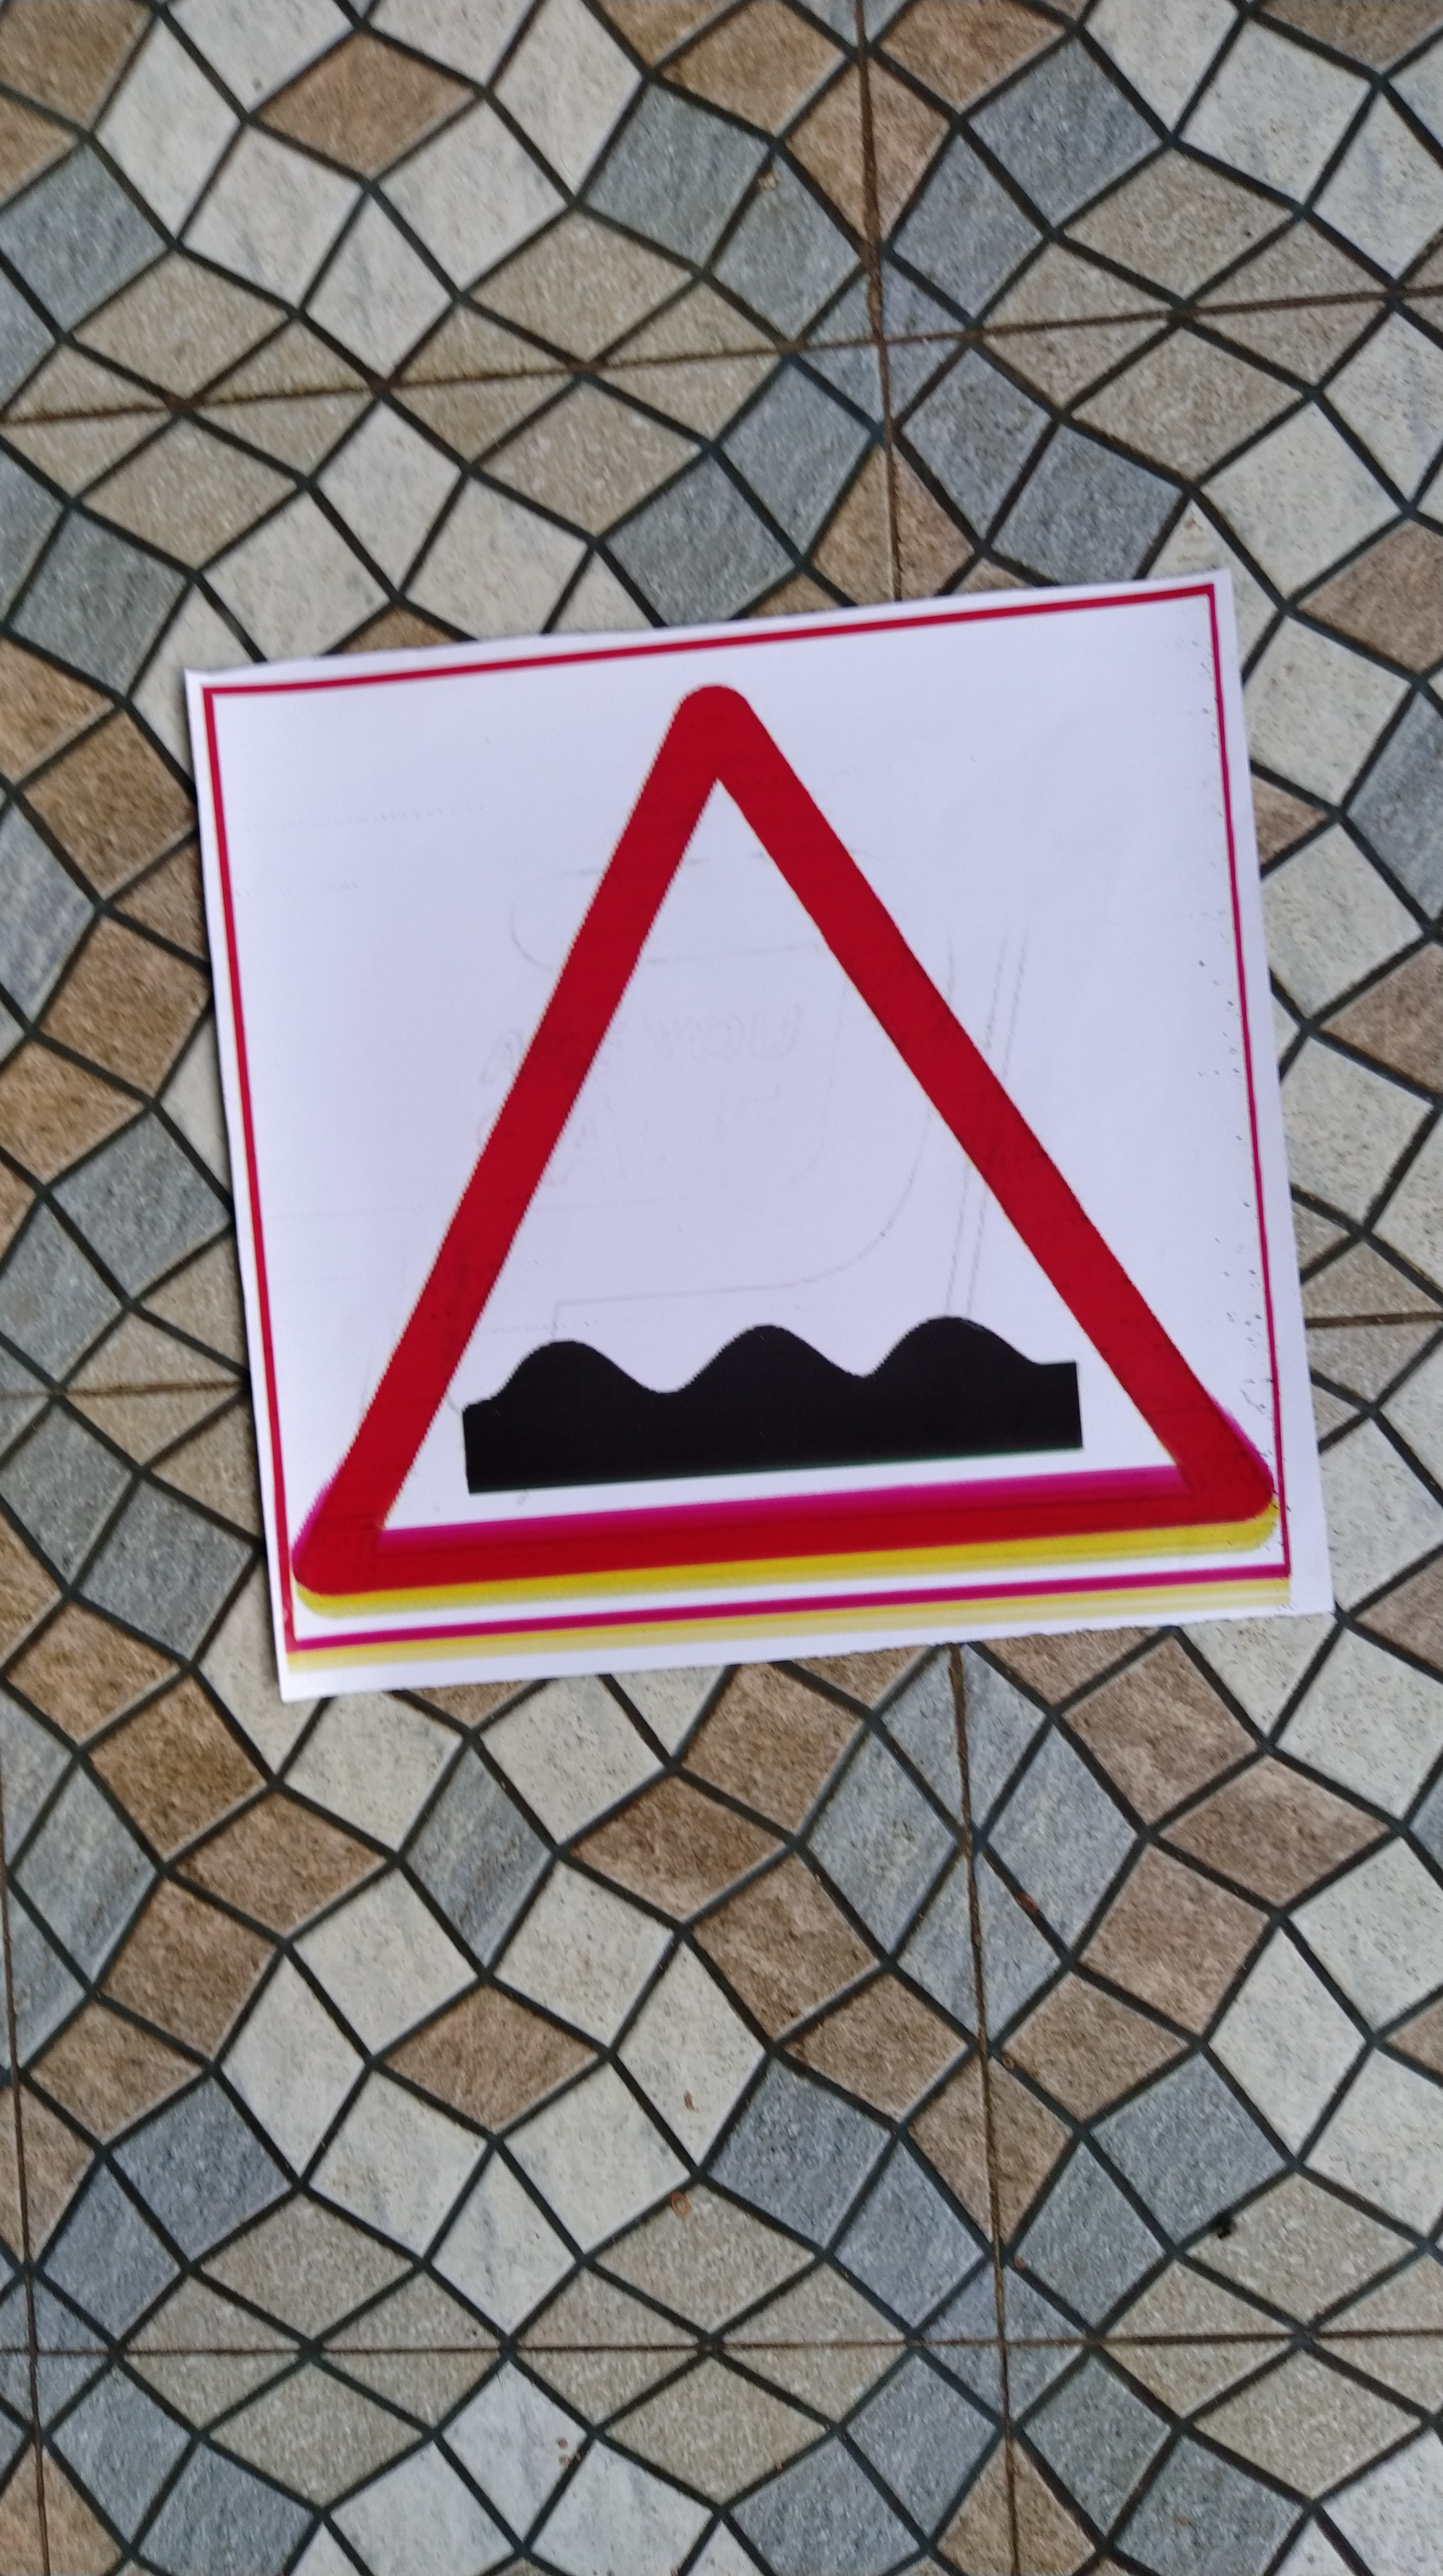speed breaker: (209, 674, 1294, 1612)
